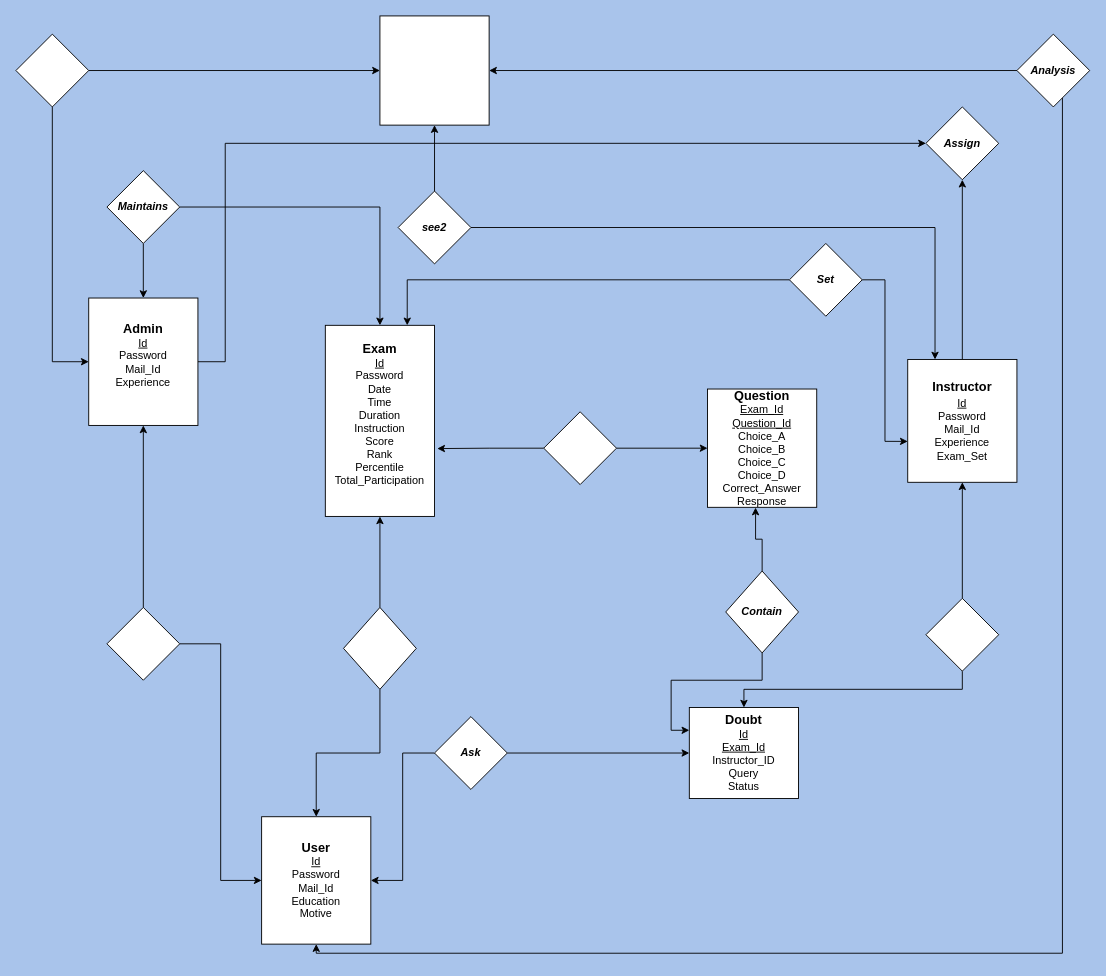
Some shapes in this 1106 by 976 pixel diagram are drawn without their labels. Here are the shapes that lost their labels. From the top down, the centre of each, then its label:
point 52,70: see
point 434,70: Participation Exam_Id Student_Id Score Percentile
point 580,448: union
point 143,643: Manage
point 379,648: Gives
point 962,634: Solve
